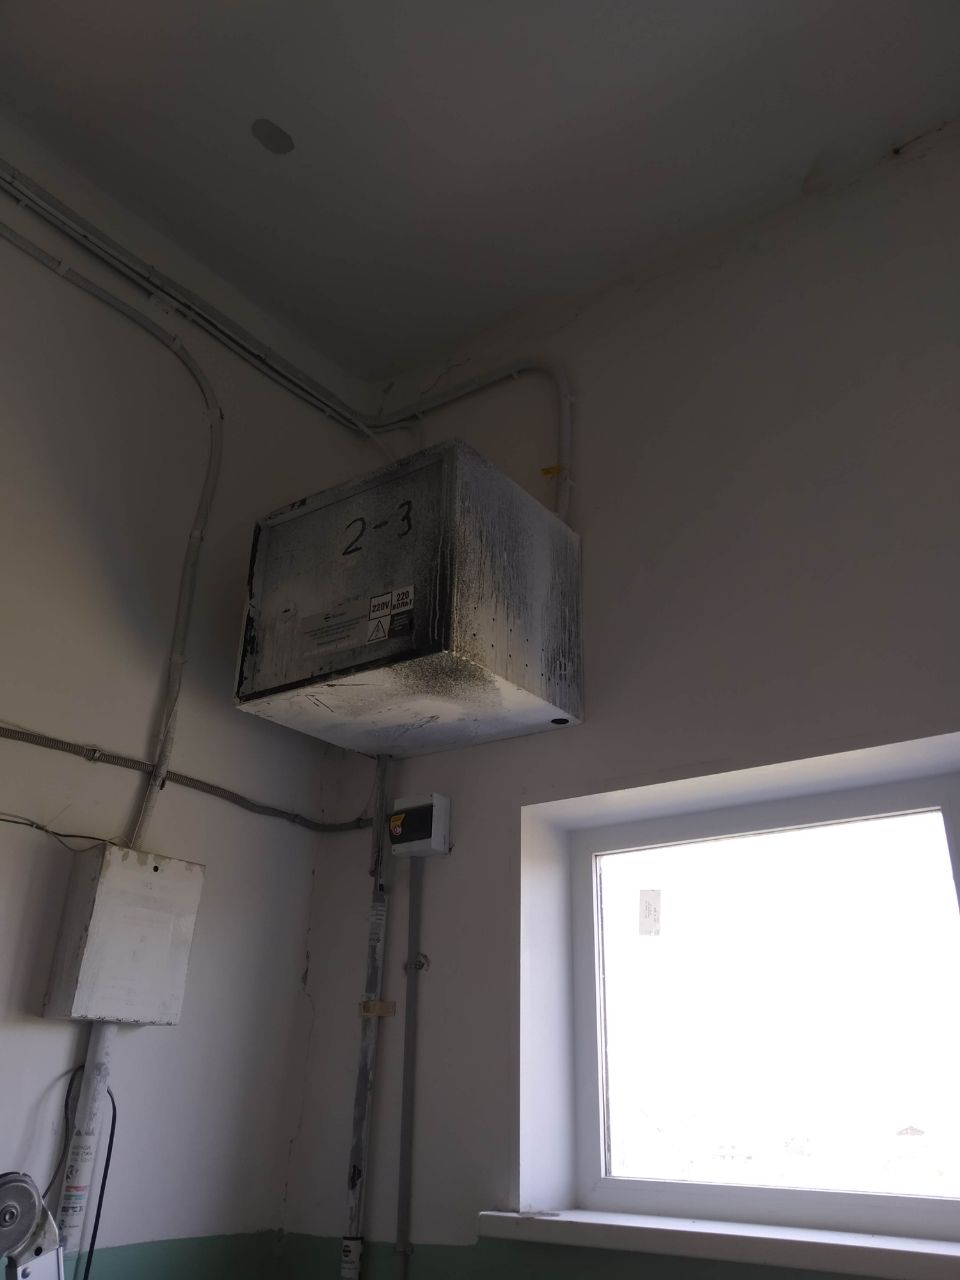shta-9m: (224, 429, 594, 770)
